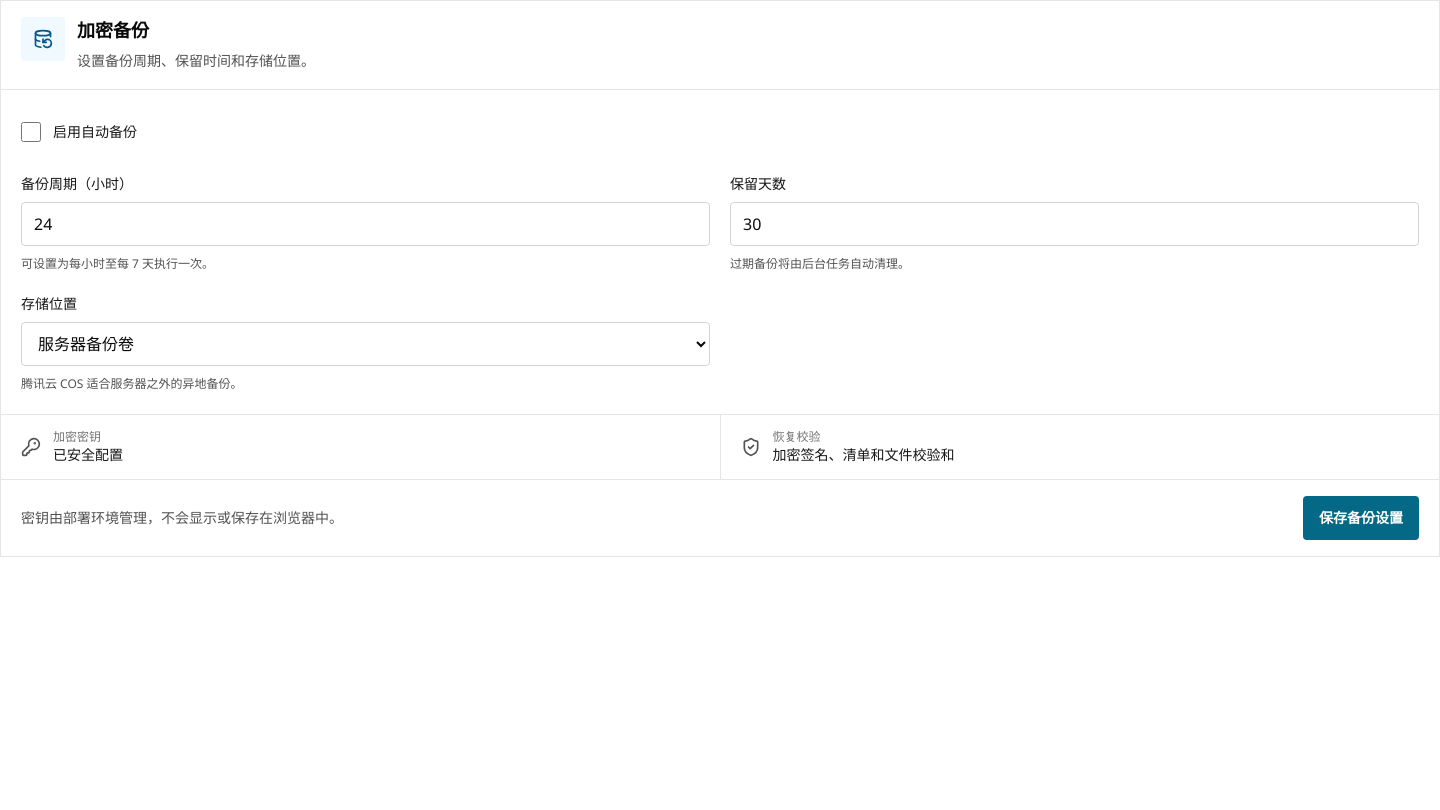
Test: BackupSettingsForm › keeps COS fields hidden until COS is selected
Expected: the field labelled "COS 存储桶" is not shown
Select "腾讯云 COS" in the dropdown labelled "存储位置": [366, 344] box [21, 322, 710, 366]
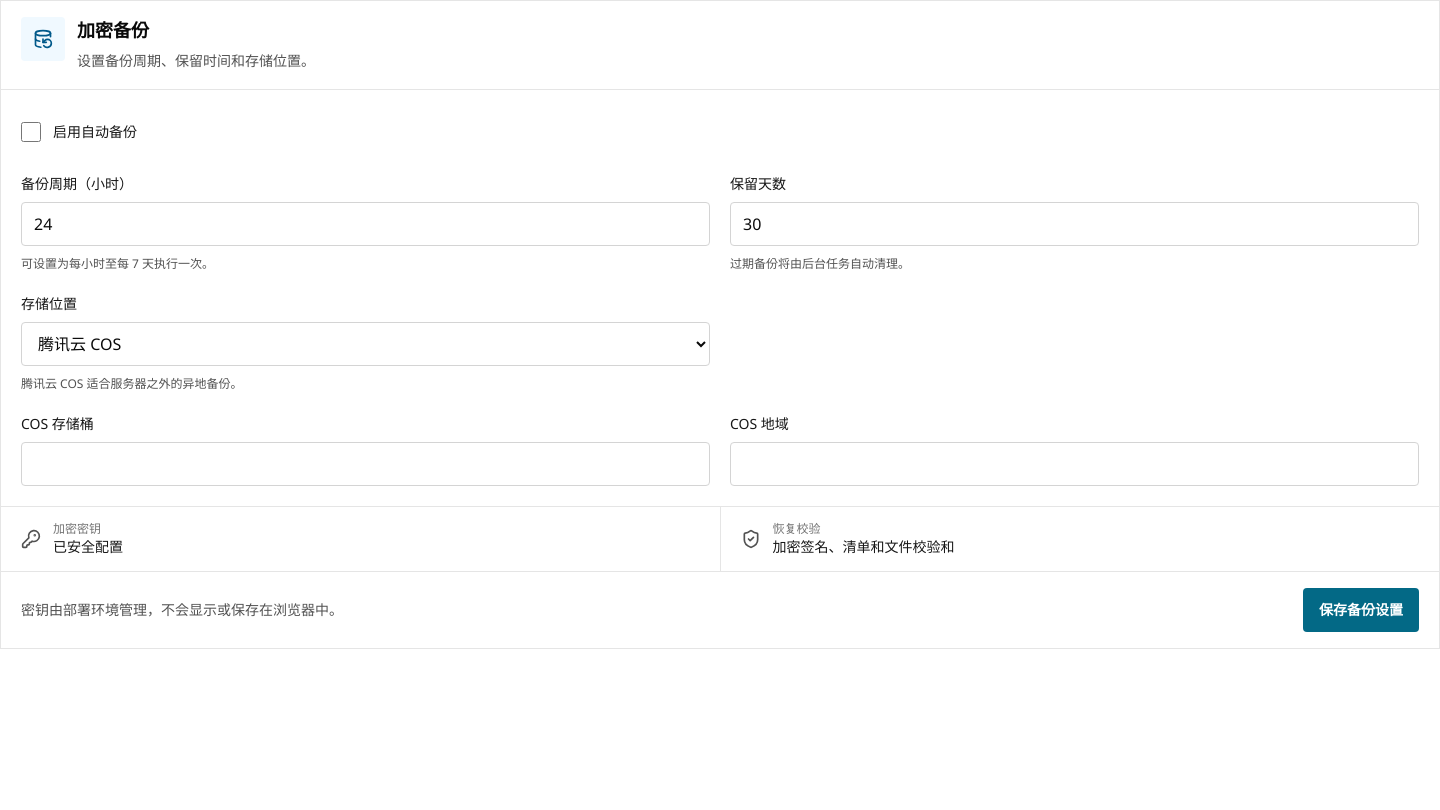
Expected: the field labelled "COS 存储桶" is shown, [21, 442, 710, 486]
Expected: the field labelled "COS 地域" is shown, [730, 442, 1419, 486]
